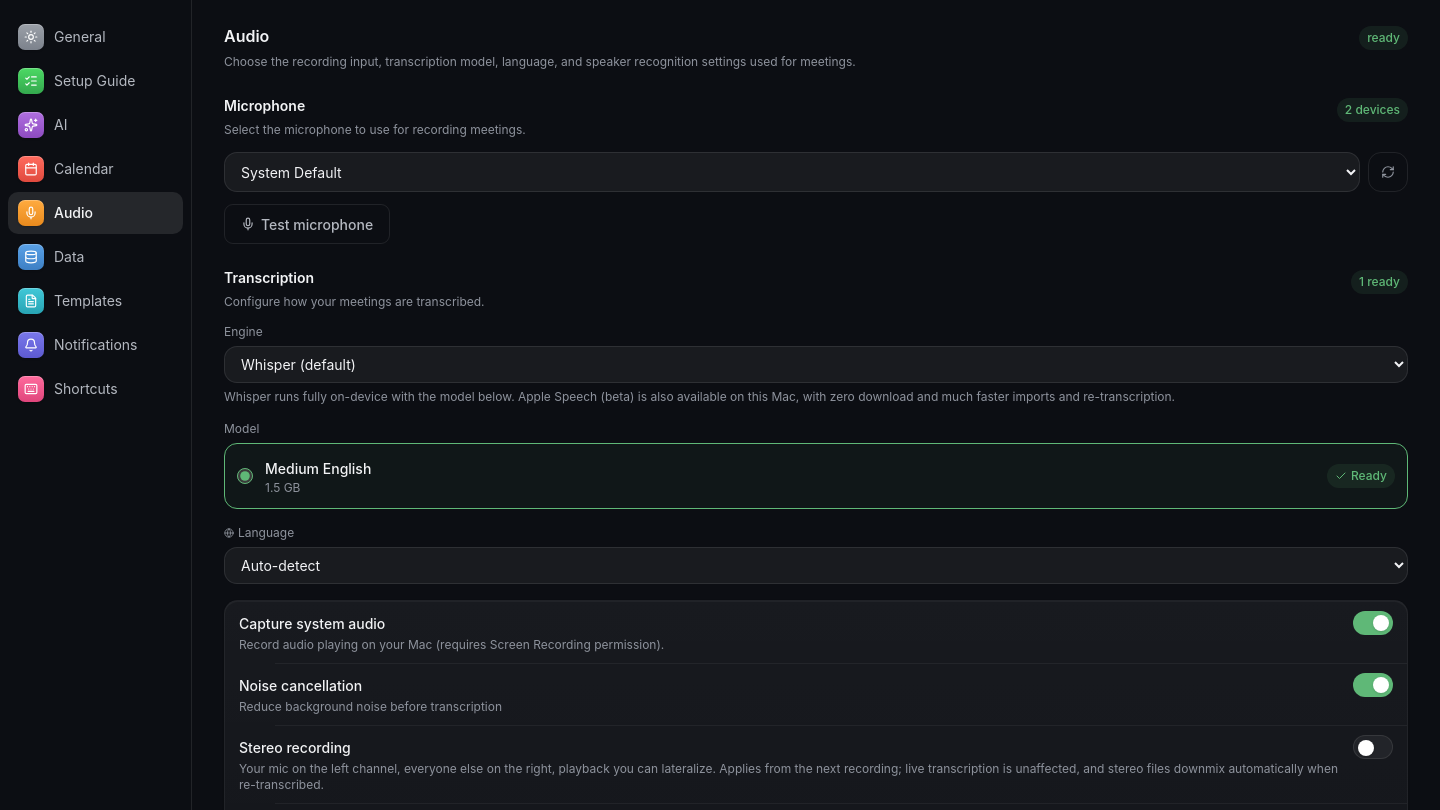
Test case: SettingsView › persists the Apple Speech engine choice when the stack is available
Step 1. Select "Apple Speech (macOS 26+, beta)" in the dropdown named "Transcription engine" → [816, 364], box 224,346 -> 1408,383
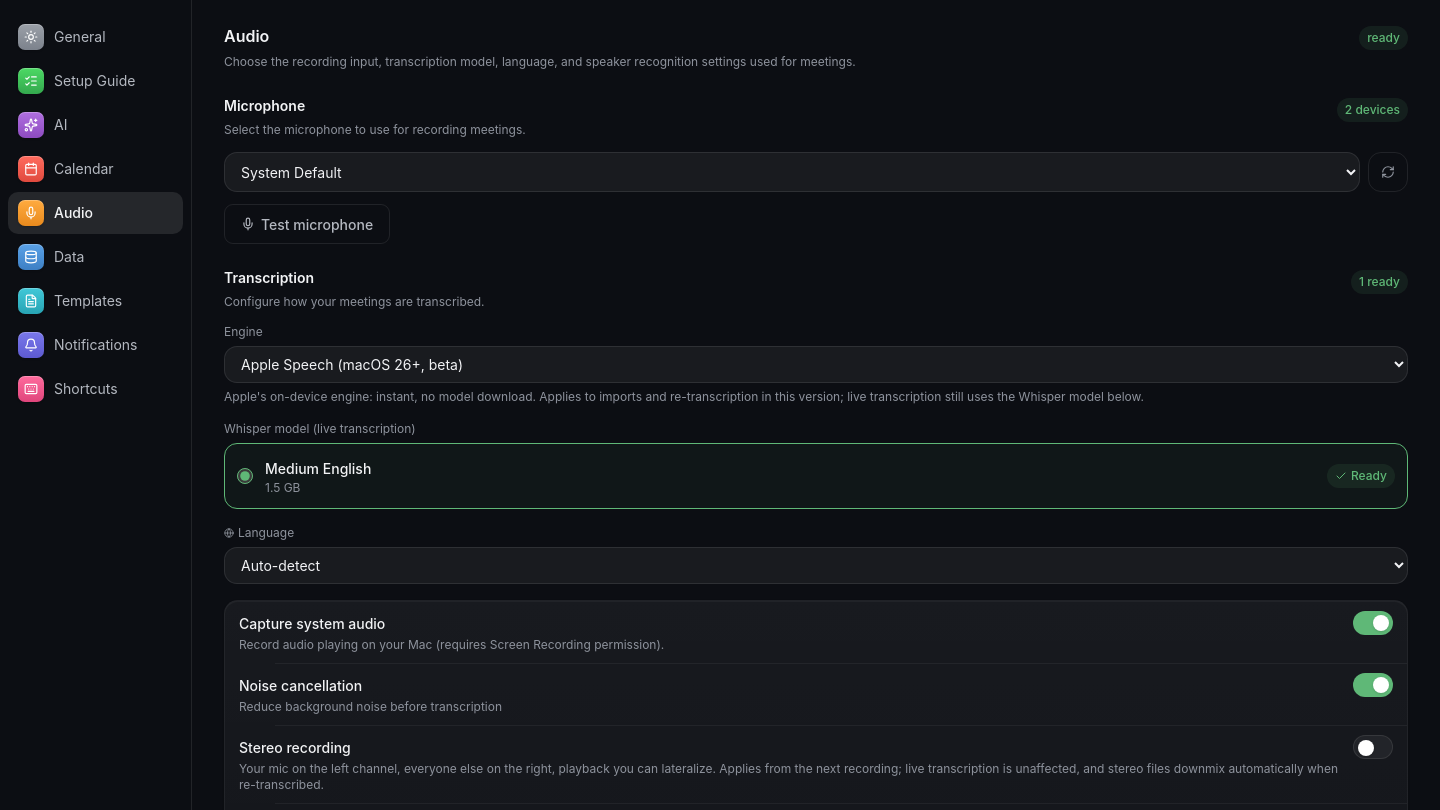
Now the text "Applies to imports and re-transcription in this version" is shown, box 224,389 -> 1144,404
